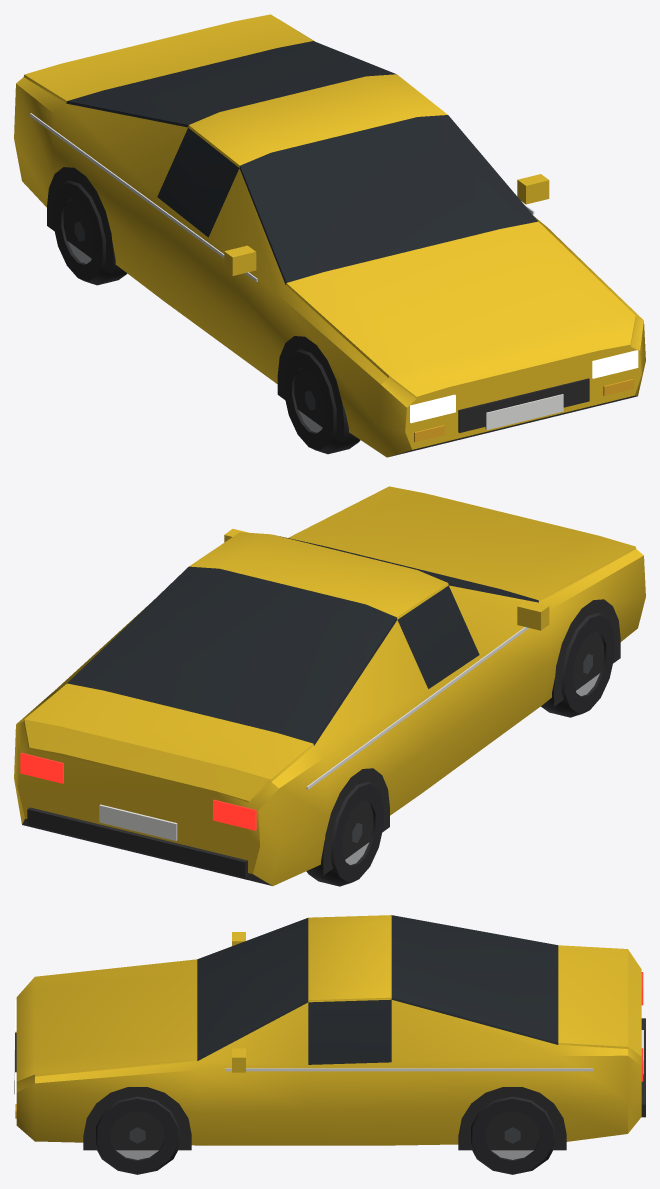
File: coupe_yellow.glb
The picture shows the model from 3 angles, top to bottom: view 1: azimuth 30°, elevation 25°; view 2: azimuth 150°, elevation 25°; view 3: azimuth 270°, elevation 25°; orthographic projection. The views are drawn at different scales.
Visible parts, largest first — view 1: coupe; view 2: coupe; view 3: coupe.
Boxes of the visible parts, x1,y1,x2,y2 form: coupe: (14, 14, 645, 457); coupe: (14, 486, 645, 886); coupe: (14, 915, 645, 1174).
Size of the model in its own units: 0.1284 by 0.081 by 0.273.
